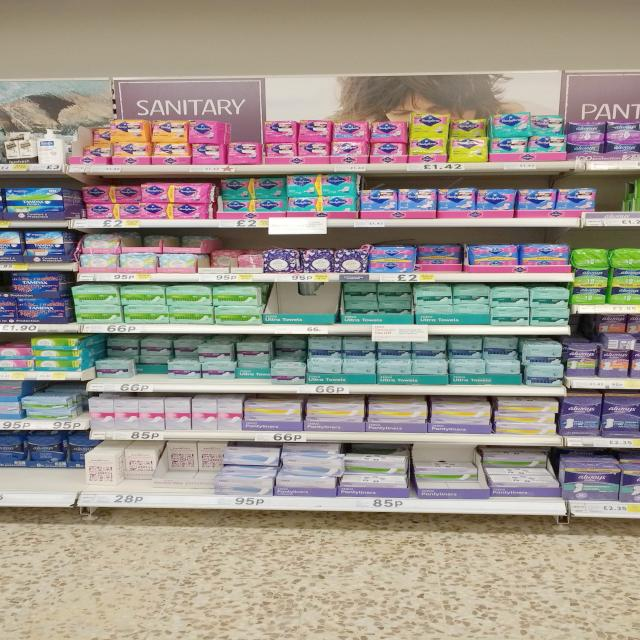empty_space: (2, 467, 78, 490), (279, 293, 331, 313), (597, 188, 630, 212)
